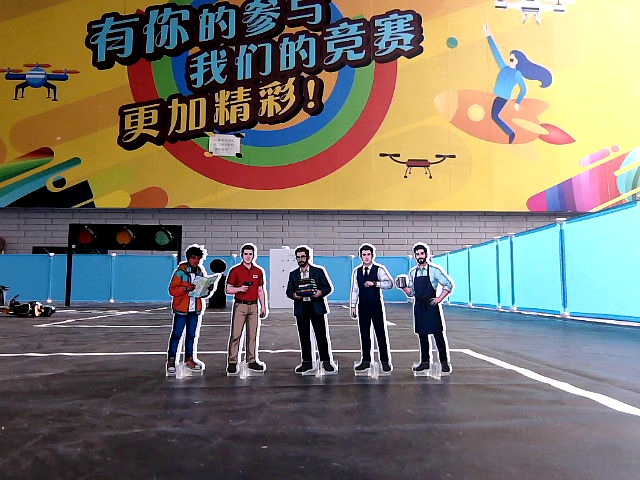community_person: (396, 240, 461, 387), (281, 241, 342, 385), (161, 240, 221, 386), (345, 240, 399, 386), (221, 240, 274, 386)
